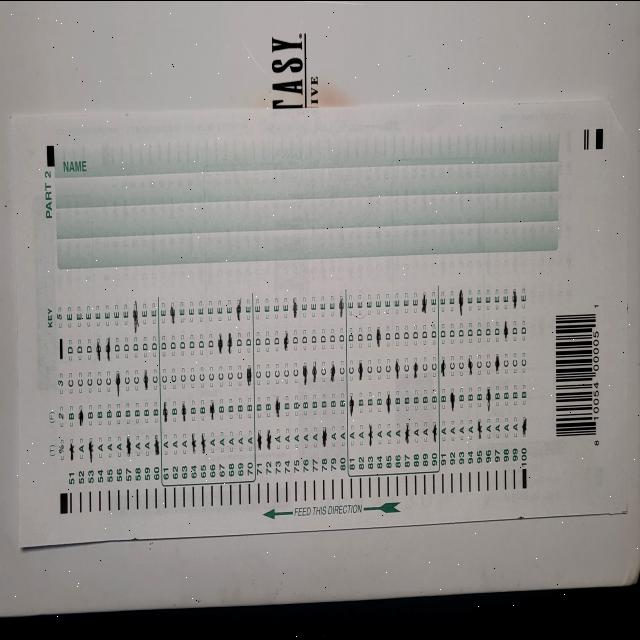scantron_back: (10, 96, 628, 547)
